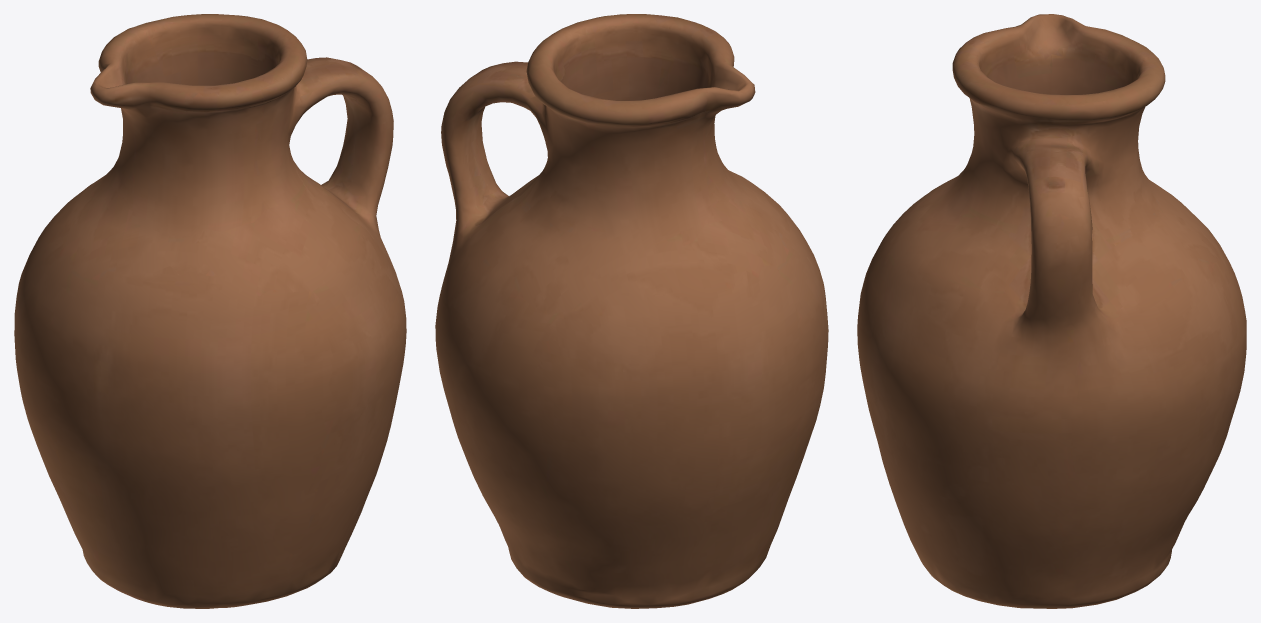
The model's file is ClayPitcher.glb.
3 views of the same model, side by side, from view 1: azimuth 30°, elevation 25°; view 2: azimuth 150°, elevation 25°; view 3: azimuth 270°, elevation 25° (orthographic).
Visible parts, largest first — view 1: ClayPitcher; view 2: ClayPitcher; view 3: ClayPitcher.
Part boxes in pixels (x1,y1,x2,y2): ClayPitcher: (14, 14, 406, 608); ClayPitcher: (435, 14, 828, 608); ClayPitcher: (857, 14, 1246, 608).
Bounding box in the file's own units: 0.4325 × 0.6 × 0.4215.
1 material, 1 textured.
